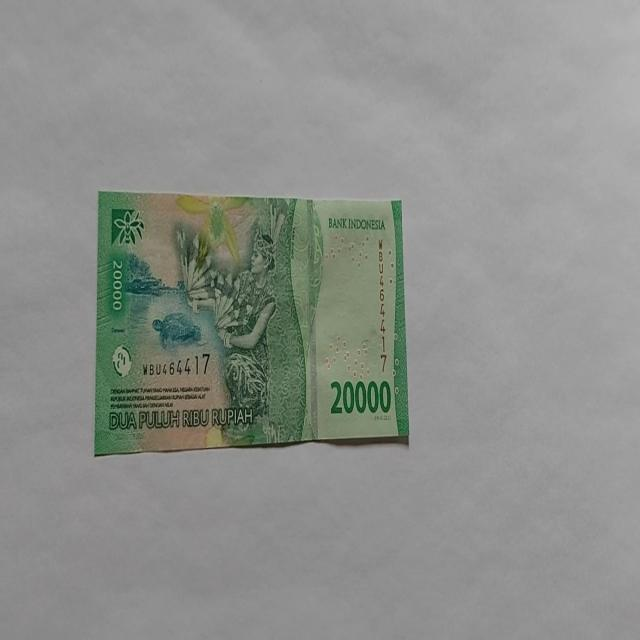dua puluh ribu rupiah: (94, 190, 410, 455)
